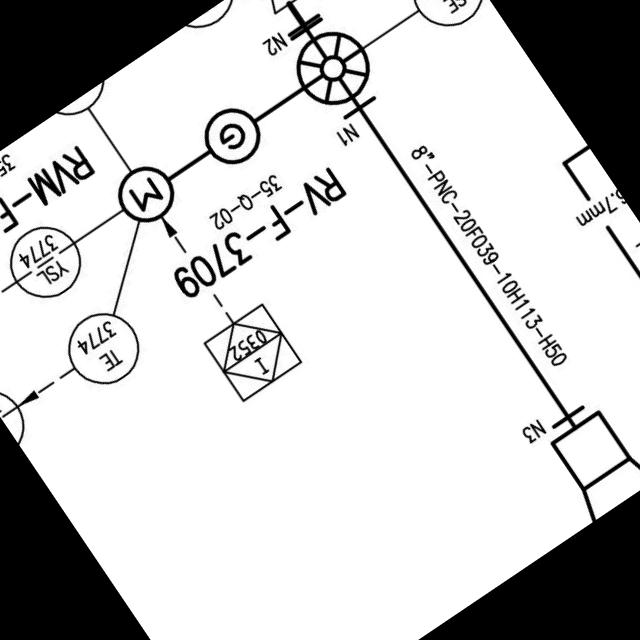RV1: (280, 17, 386, 121)
RVM: (105, 92, 276, 236)
SP: (255, 0, 312, 23)
